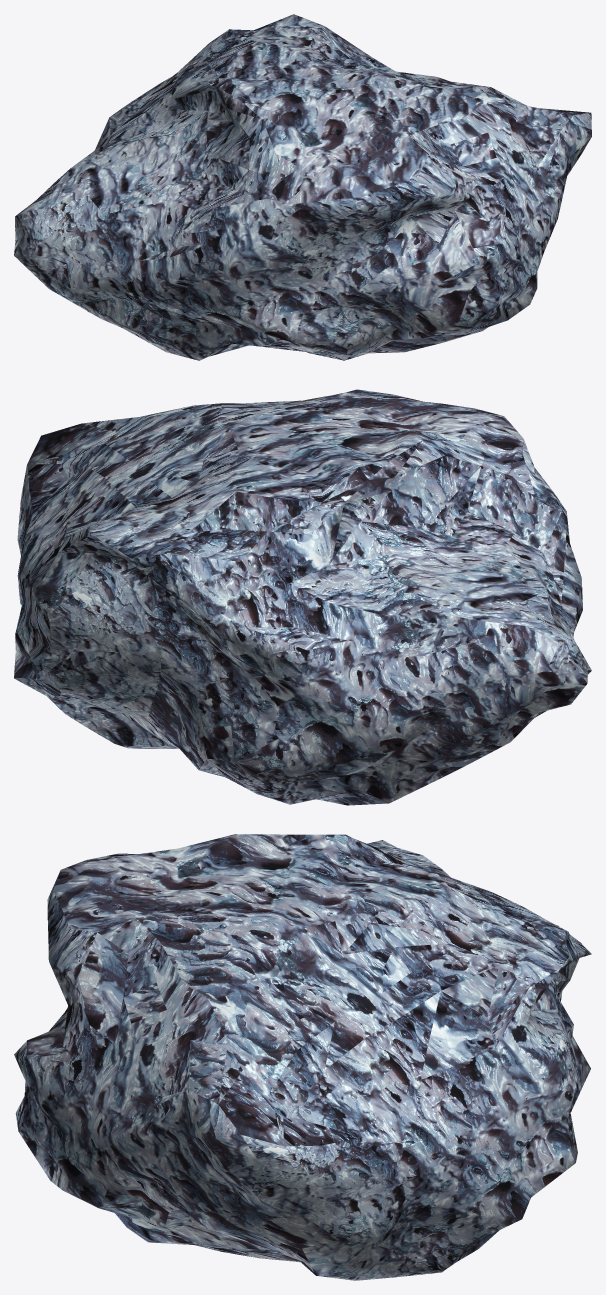
The model's file is Asteroide_Silvia.FBX.
3 renders of one model, top to bottom at view 1: azimuth 30°, elevation 25°; view 2: azimuth 150°, elevation 25°; view 3: azimuth 270°, elevation 25°, orthographic. The views are drawn at different scales.
Parts seen in each view (by area): view 1: GeoSphere001; view 2: GeoSphere001; view 3: GeoSphere001.
Part boxes in pixels (x1,y1,x2,y2): GeoSphere001: [14, 14, 591, 360]; GeoSphere001: [14, 389, 591, 805]; GeoSphere001: [14, 834, 591, 1280].
Size of the model in its own units: 101 by 49.11 by 75.66.
1 material, 1 textured.
